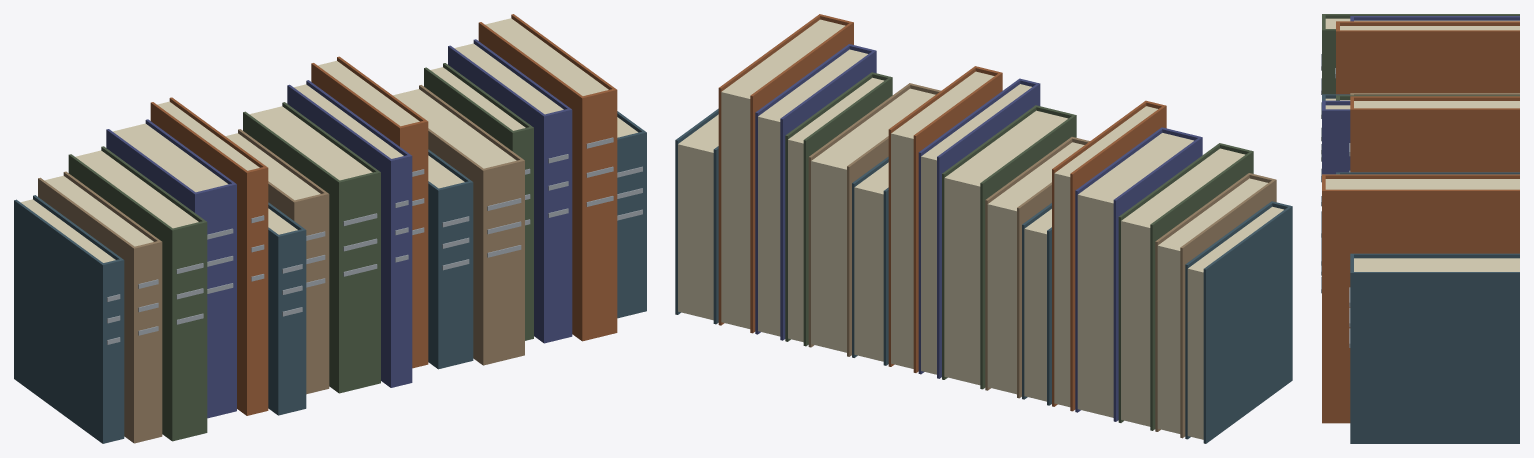
The model's file is Konyvsor.obj.
3 views of the same model, side by side, from view 1: azimuth 30°, elevation 25°; view 2: azimuth 150°, elevation 25°; view 3: azimuth 270°, elevation 25° (orthographic). The views are drawn at different scales.
Size of the model in its own units: 0.637 by 0.272 by 0.211.
